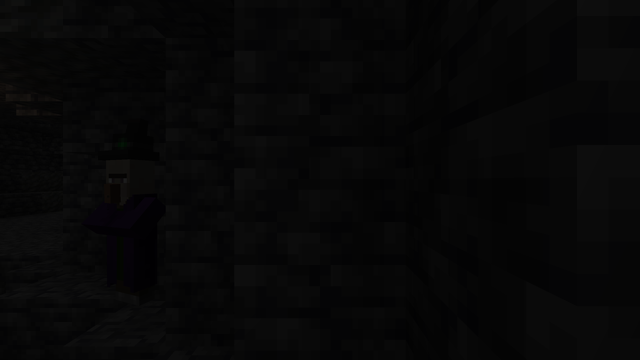sorcieres: (95, 153, 160, 309)
